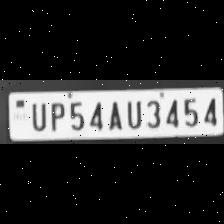3: (142, 97, 162, 128)
4: (201, 96, 221, 127), (86, 98, 104, 130), (162, 96, 180, 128)
5: (65, 98, 85, 130), (180, 96, 198, 127)
A: (104, 98, 122, 130)
P: (47, 100, 65, 132)
U: (27, 99, 47, 131), (123, 97, 143, 128)
